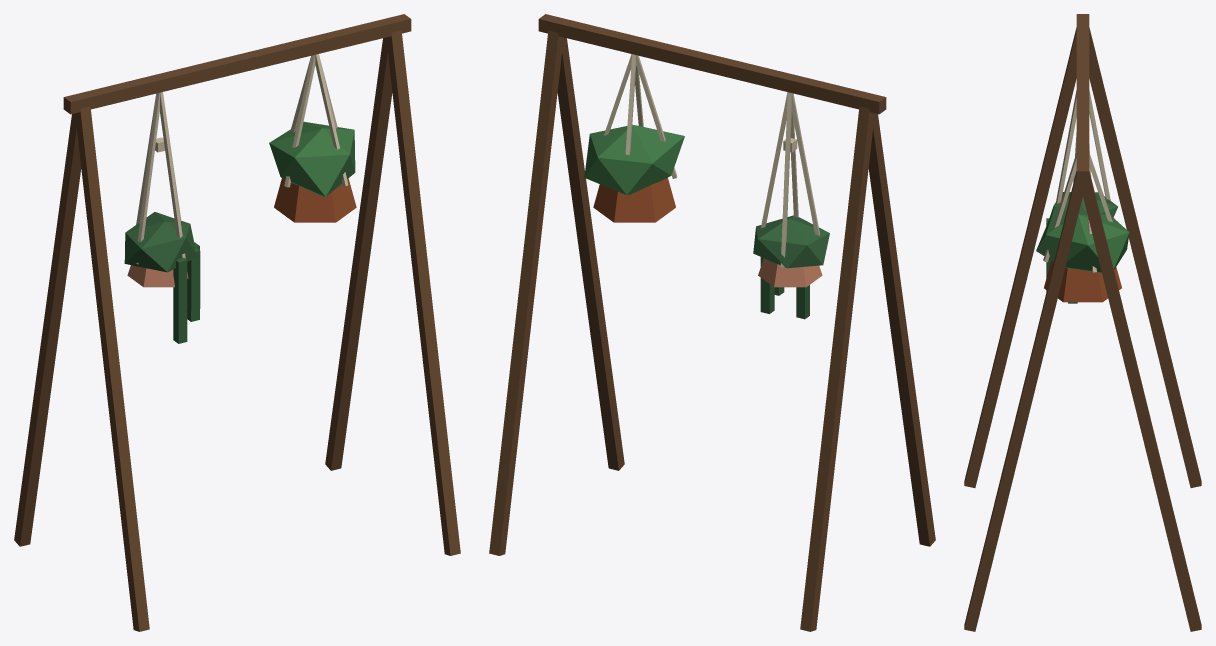
File: plant-hanger-18.glb
The picture shows the model from 3 angles, left to right: view 1: azimuth 30°, elevation 25°; view 2: azimuth 150°, elevation 25°; view 3: azimuth 270°, elevation 25°; orthographic projection. The views are drawn at different scales.
Visible parts, largest first — view 1: plant_hanger_18; view 2: plant_hanger_18; view 3: plant_hanger_18.
Boxes of the visible parts, x1,y1,x2,y2 form: plant_hanger_18: (14,14,460,631); plant_hanger_18: (489,14,935,631); plant_hanger_18: (964,14,1201,631).
Bounding box in the file's own units: 1.15 × 1.59 × 0.7341.
